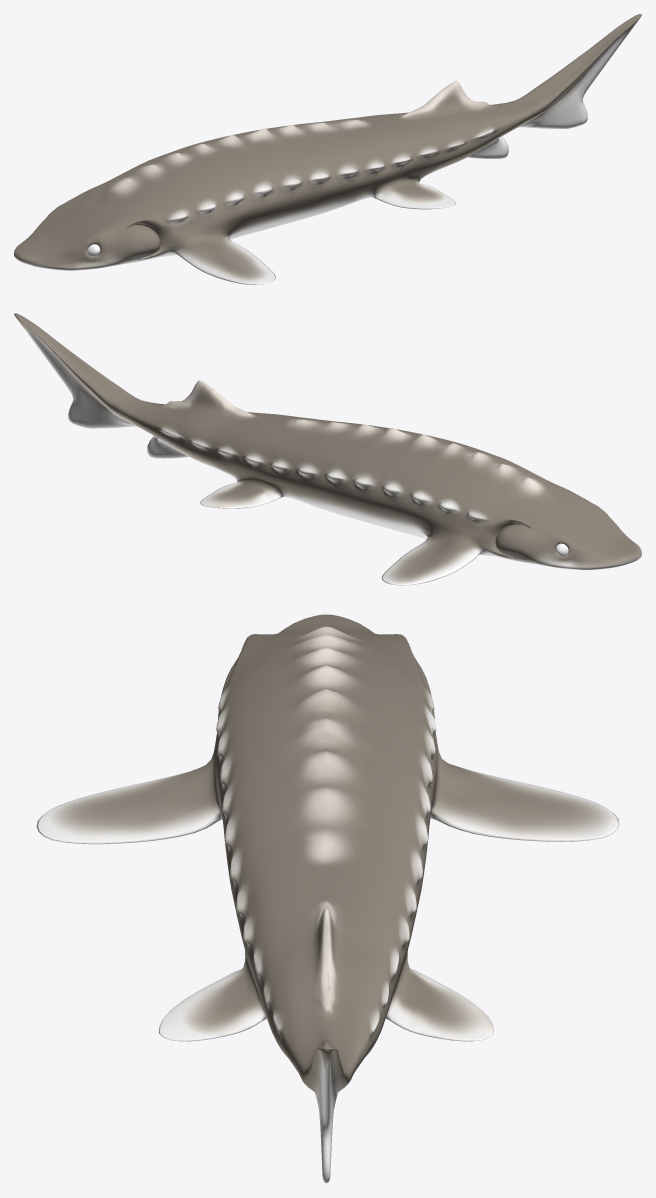
The model's file is ship_sturgeon.glb.
3 views of the same model, one above another, from view 1: azimuth 30°, elevation 25°; view 2: azimuth 150°, elevation 25°; view 3: azimuth 270°, elevation 25° (orthographic). The views are drawn at different scales.
Parts seen in each view (by area): view 1: Object_2; view 2: Object_2; view 3: Object_2.
Part boxes in pixels (x1,y1,x2,y2): Object_2: (14, 14, 641, 284); Object_2: (14, 313, 641, 585); Object_2: (36, 614, 619, 1183).
Size of the model in its own units: 1.77 by 0.3018 by 0.715.
1 material, 1 textured.
